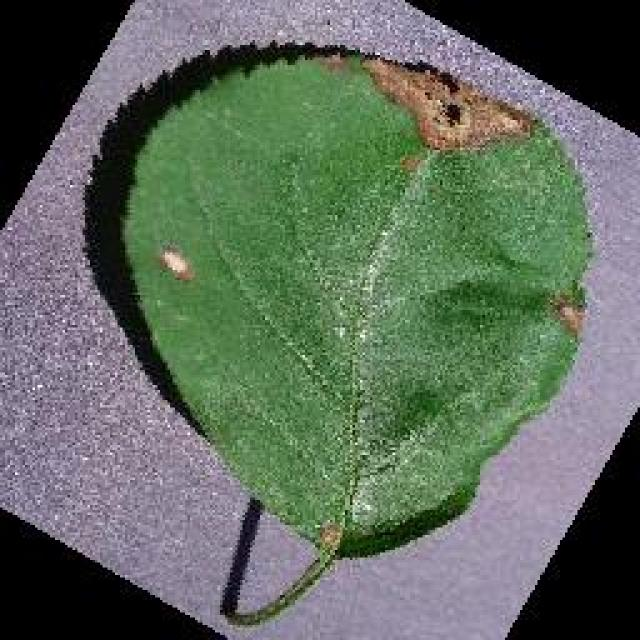Black_rot: (110, 43, 595, 625)
